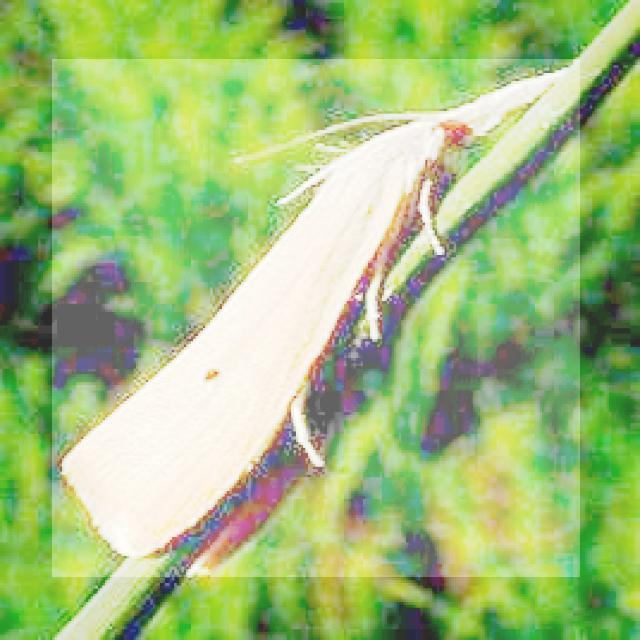stem-borer: (52, 59, 580, 577)
